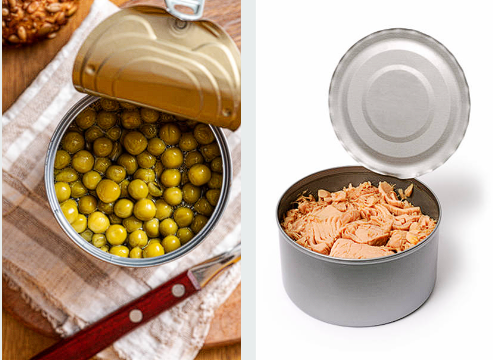Danificado: (47, 1, 240, 275), (268, 19, 467, 276)
